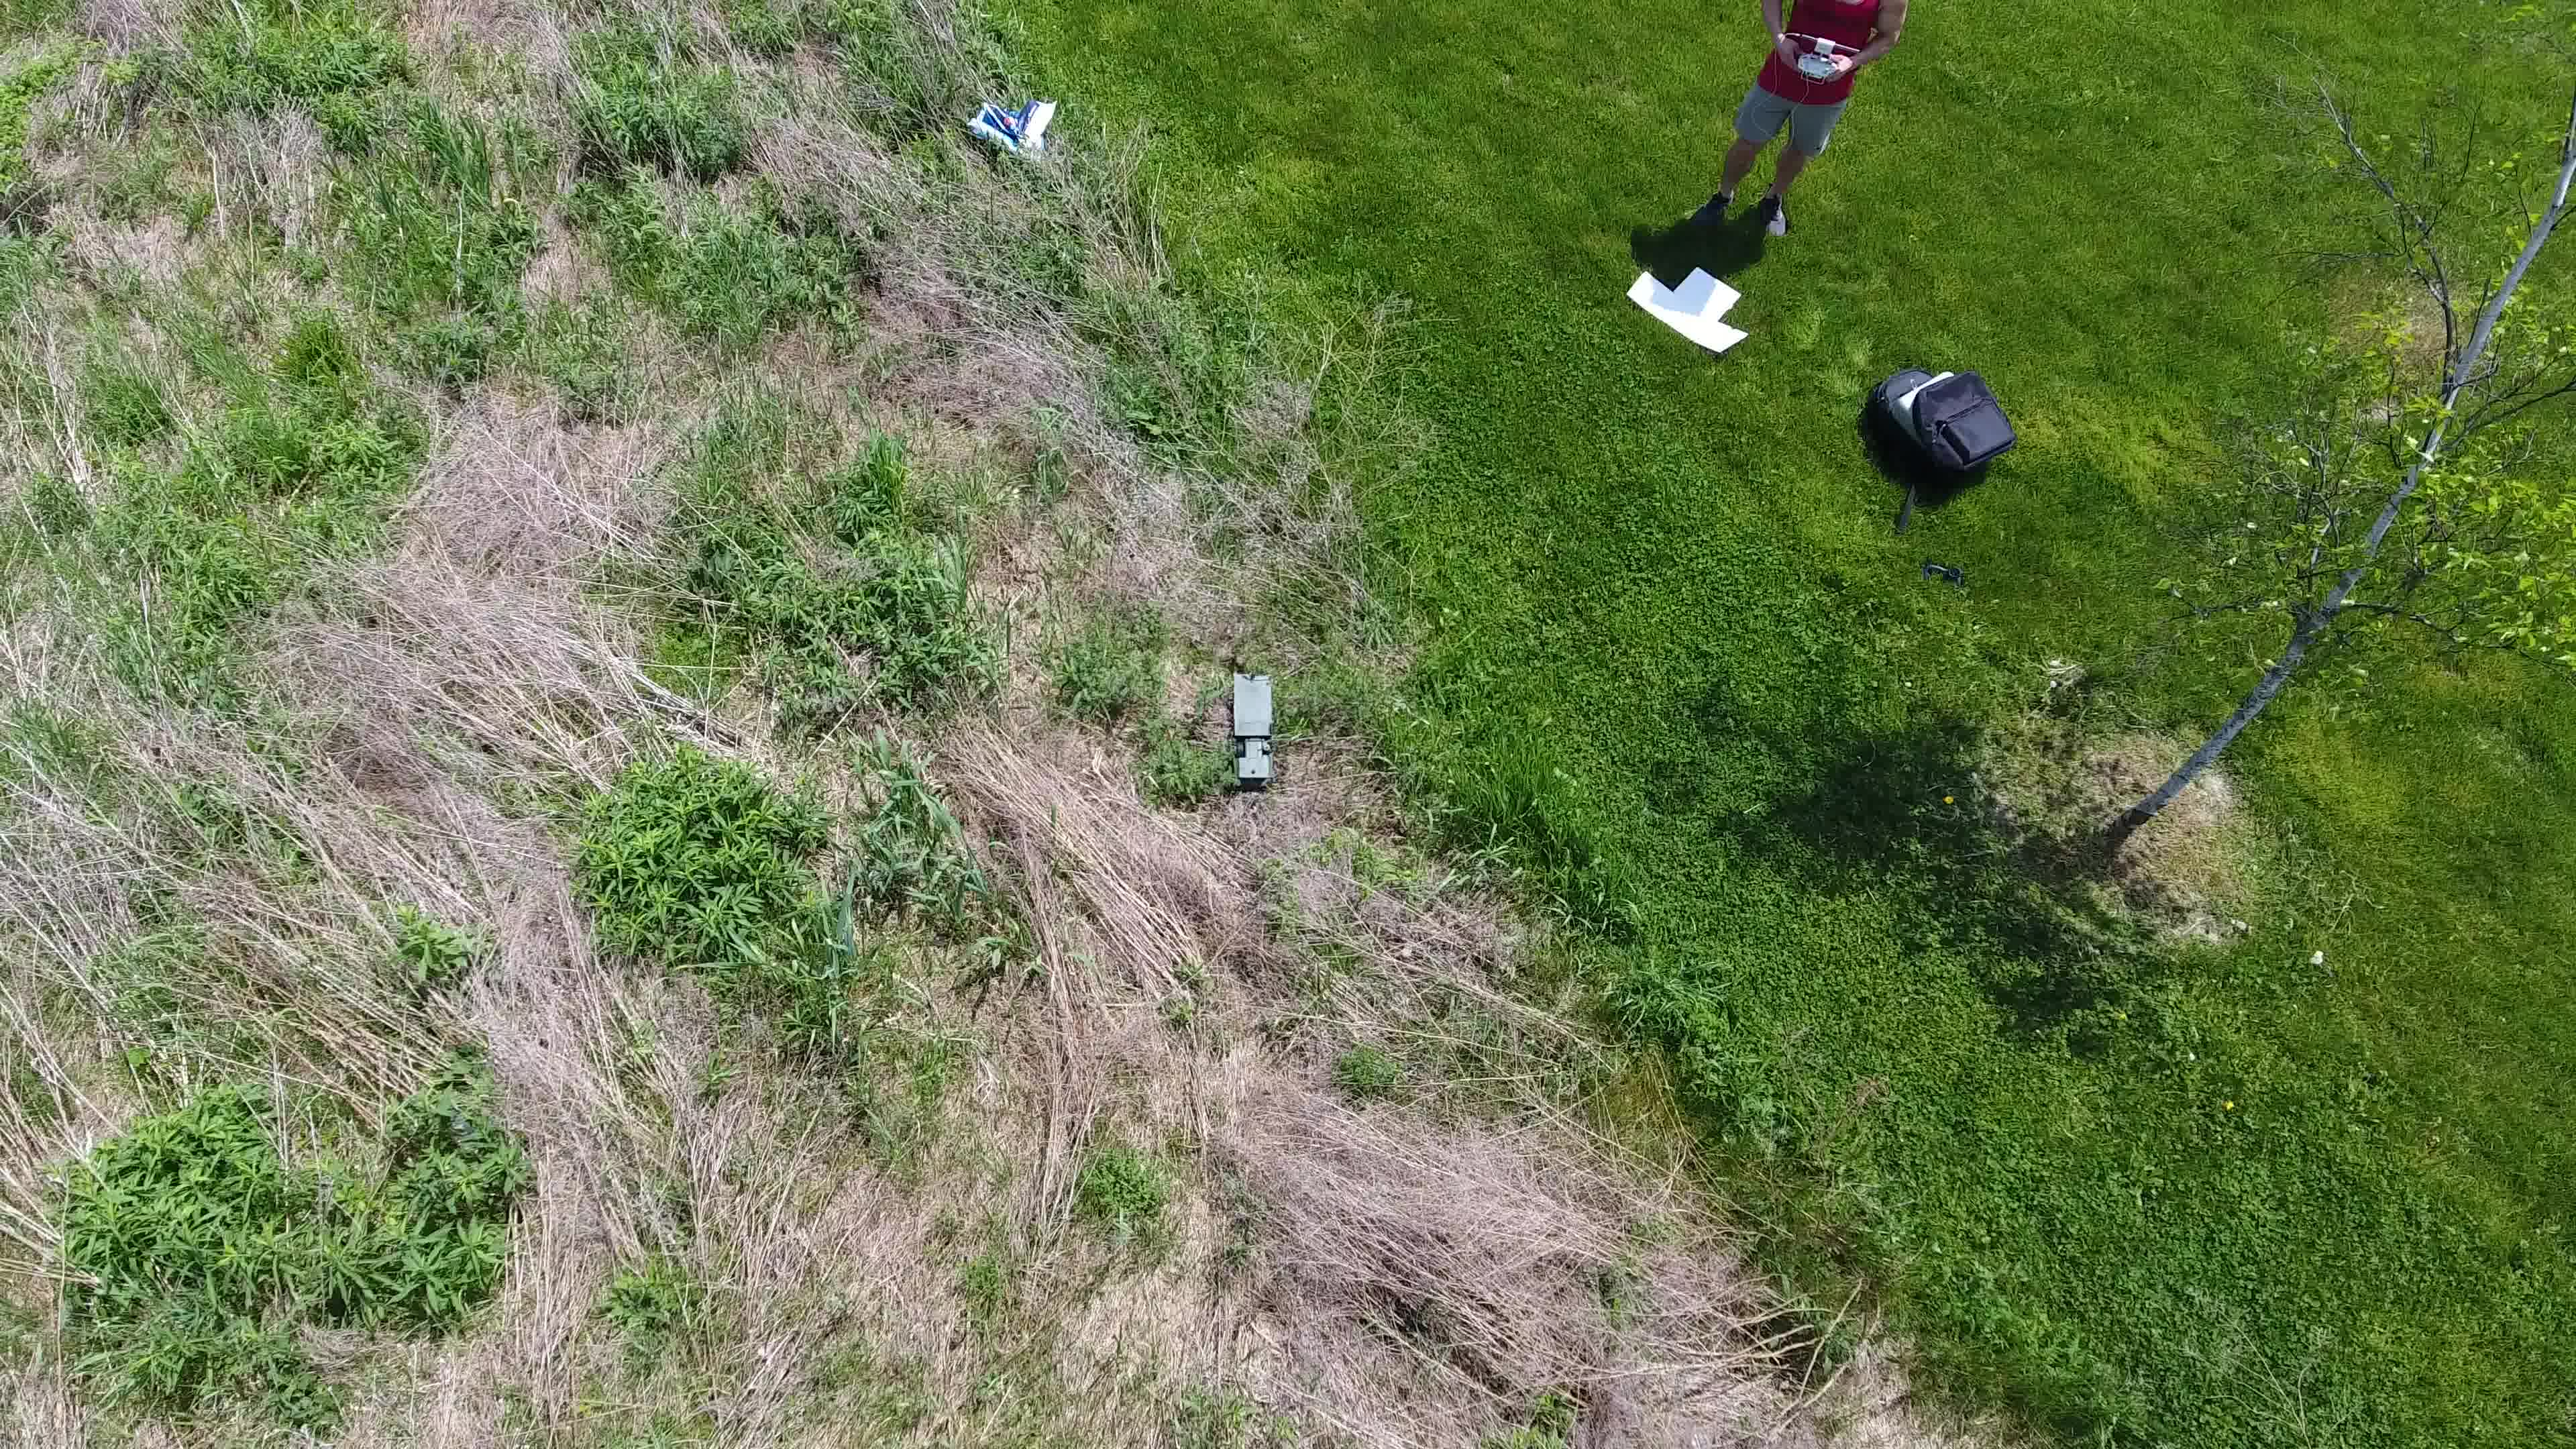transporter9: (1228, 669, 1283, 789)
